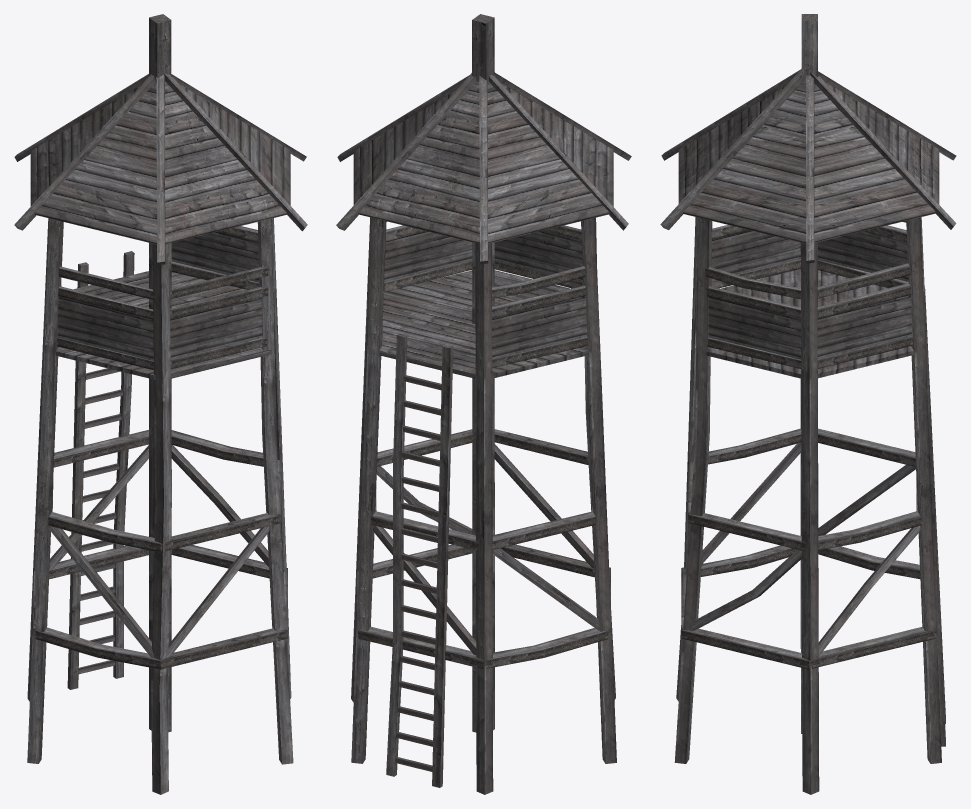
File: v3_huntingtower_roof.dae
The picture shows the model from 3 angles, left to right: view 1: azimuth 30°, elevation 25°; view 2: azimuth 150°, elevation 25°; view 3: azimuth 270°, elevation 25°; orthographic projection.
Visible parts, largest first — view 1: WoodPlanks, Wood_planks_ornaments; view 2: WoodPlanks, Wood_planks_ornaments; view 3: WoodPlanks, Wood_planks_ornaments.
Boxes of the visible parts, <box> form: WoodPlanks: <box>14,14,307,794</box>; Wood_planks_ornaments: <box>33,226,287,669</box>; WoodPlanks: <box>336,14,631,794</box>; Wood_planks_ornaments: <box>356,221,610,669</box>; WoodPlanks: <box>660,14,956,794</box>; Wood_planks_ornaments: <box>681,221,936,669</box>.
Size of the model in its own units: 3.78 by 8.89 by 3.34.
